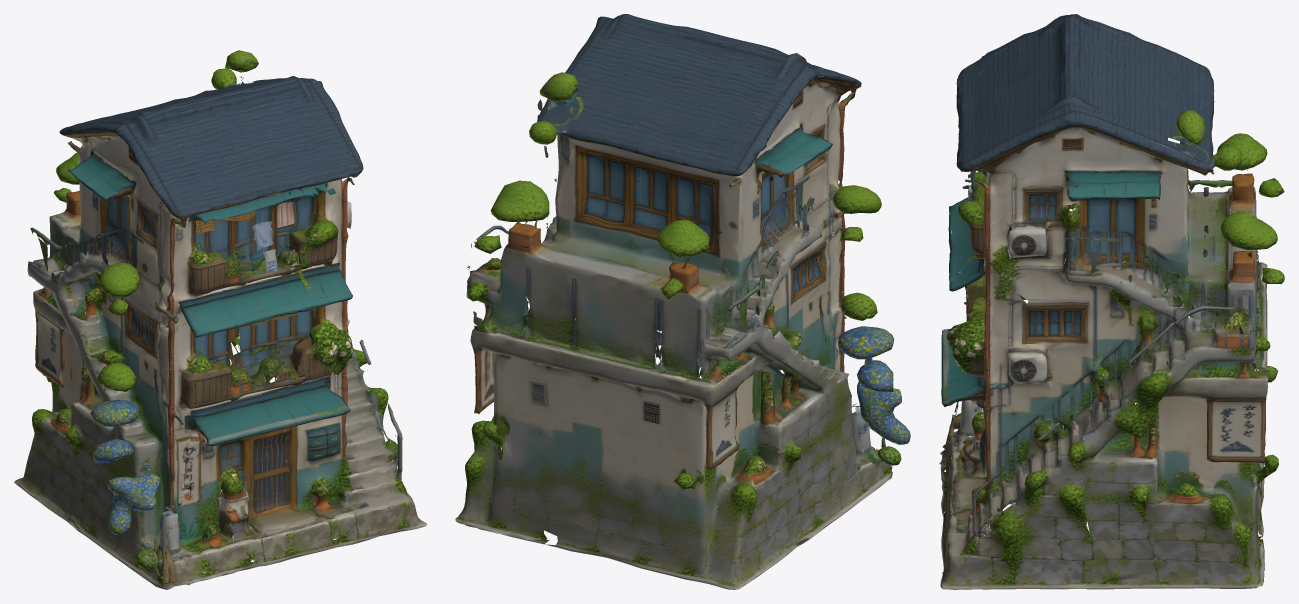
Rendered from building15.glb.
The picture shows the model from 3 angles, left to right: view 1: azimuth 30°, elevation 25°; view 2: azimuth 150°, elevation 25°; view 3: azimuth 270°, elevation 25°; orthographic projection. The views are drawn at different scales.
Visible parts, largest first — view 1: tripo_node_fd02659f; view 2: tripo_node_fd02659f; view 3: tripo_node_fd02659f.
Part boxes in pixels (left/top/right/bottom): tripo_node_fd02659f: left=14, top=50, right=426, bottom=589; tripo_node_fd02659f: left=455, top=14, right=910, bottom=589; tripo_node_fd02659f: left=939, top=14, right=1284, bottom=589.
Size of the model in its own units: 72.44 by 99.73 by 66.69.
1 material, 1 textured.
